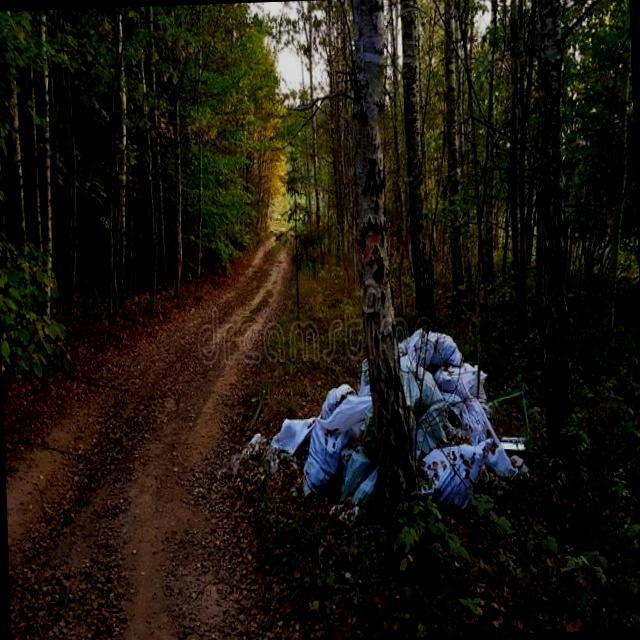garbage: (259, 320, 529, 532)
